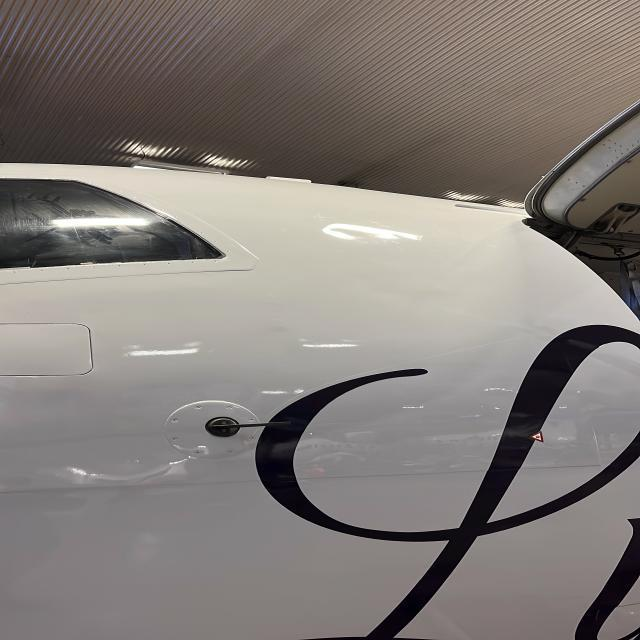dent: (322, 222, 396, 246)
